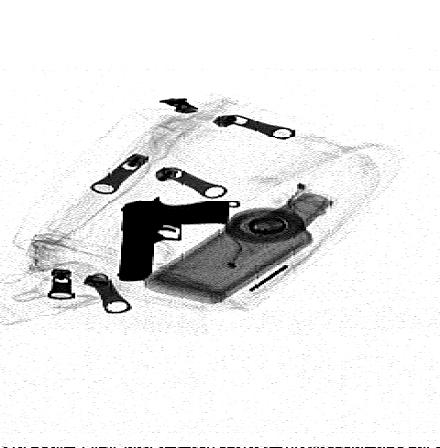Gun: (118, 194, 235, 283)
